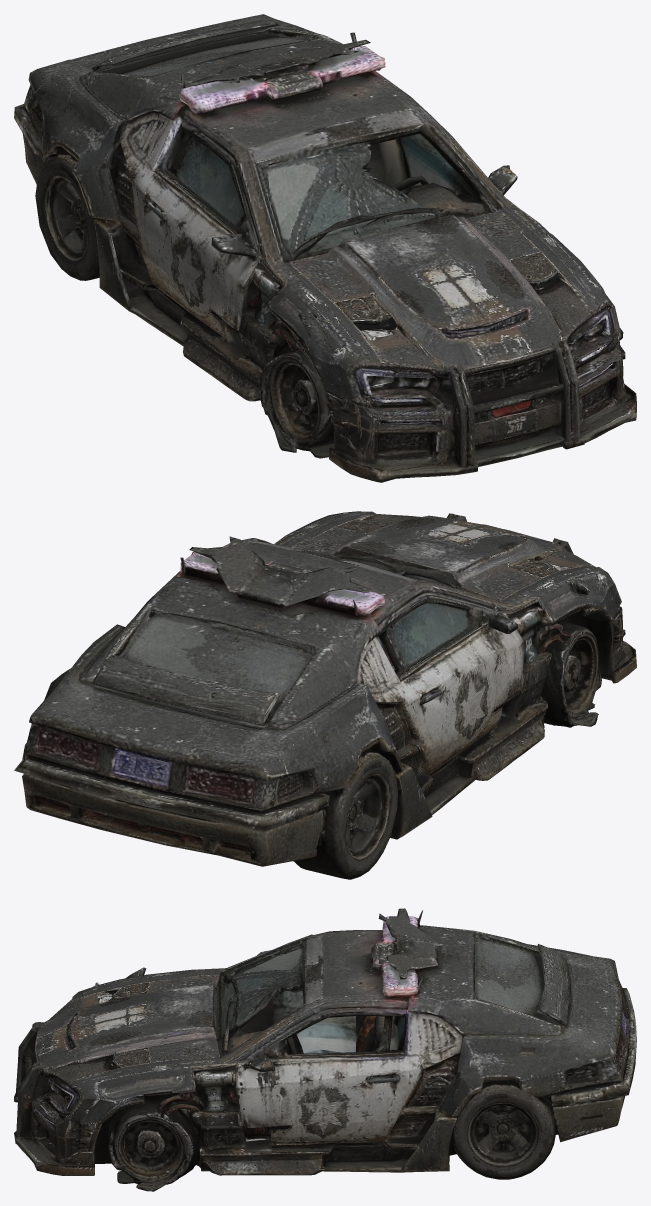
The model's file is tripo_convert_b0137c71-5d6f-46b4-ba3d-885cc05935e9.fbx.
3 renders of one model, top to bottom at view 1: azimuth 30°, elevation 25°; view 2: azimuth 150°, elevation 25°; view 3: azimuth 270°, elevation 25°, orthographic. The views are drawn at different scales.
Visible parts, largest first — view 1: tripo_node_b0137c71; view 2: tripo_node_b0137c71; view 3: tripo_node_b0137c71.
Boxes of the visible parts, x1,y1,x2,y2 form: tripo_node_b0137c71: (14, 14, 636, 482); tripo_node_b0137c71: (14, 511, 636, 879); tripo_node_b0137c71: (14, 908, 636, 1191).
Bounding box in the file's own units: 0.4598 × 0.3344 × 0.9799.
1 material, 1 textured.
